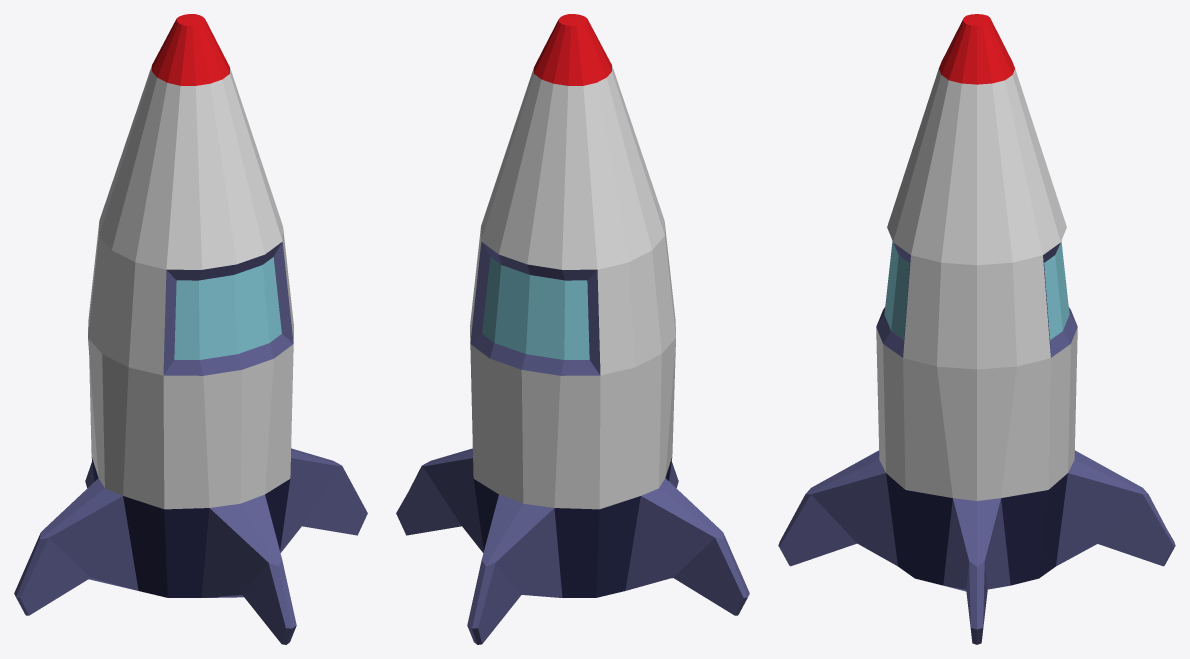
File: rocket.glb
3 renders of one model, left to right at view 1: azimuth 30°, elevation 25°; view 2: azimuth 150°, elevation 25°; view 3: azimuth 270°, elevation 25°, orthographic.
Parts seen in each view (by area): view 1: Plane; view 2: Plane; view 3: Plane.
Boxes of the visible parts, x1,y1,x2,y2 form: Plane: (14,14,367,644); Plane: (396,14,749,644); Plane: (778,14,1175,644).
Bounding box in the file's own units: 2.89 × 4.38 × 2.89.
